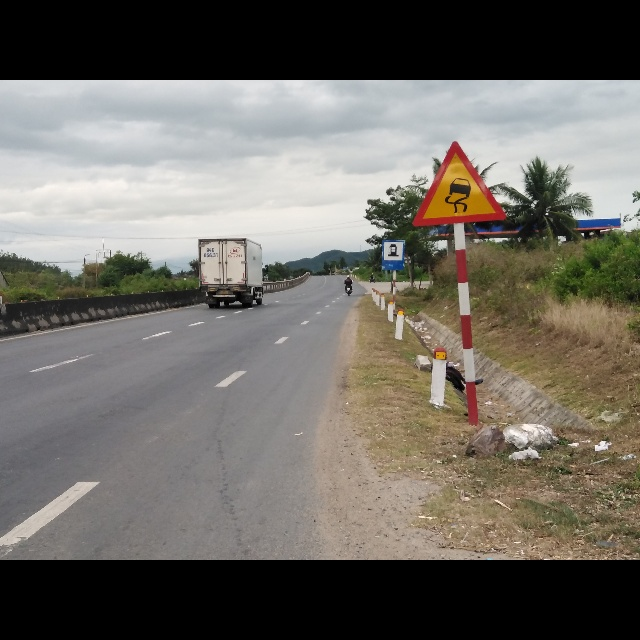Đường trơn trượt: (410, 140, 509, 228)
